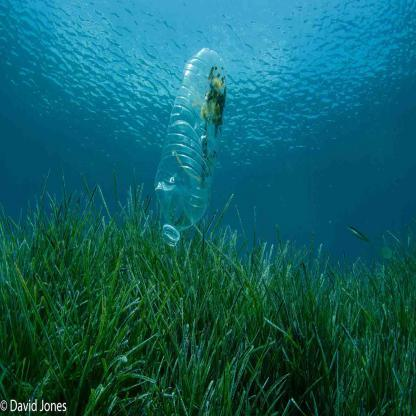Rác: (155, 34, 233, 256)
